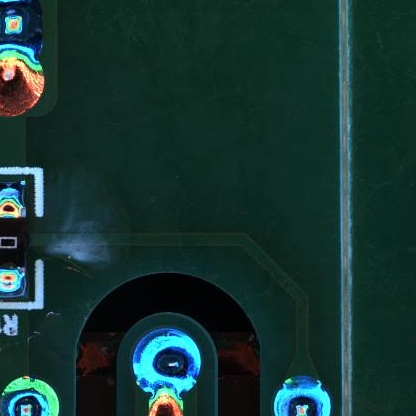spot: (128, 323, 202, 391), (273, 375, 330, 416), (1, 376, 59, 416), (1, 1, 43, 50)
